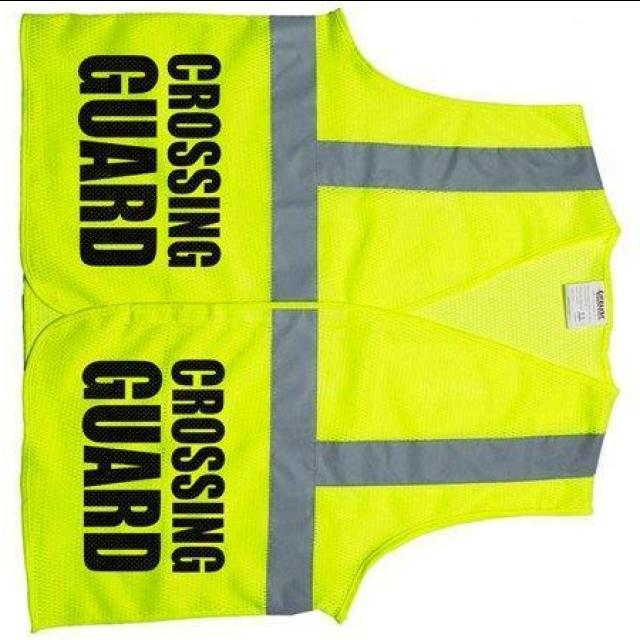jacket: (9, 5, 610, 636)
